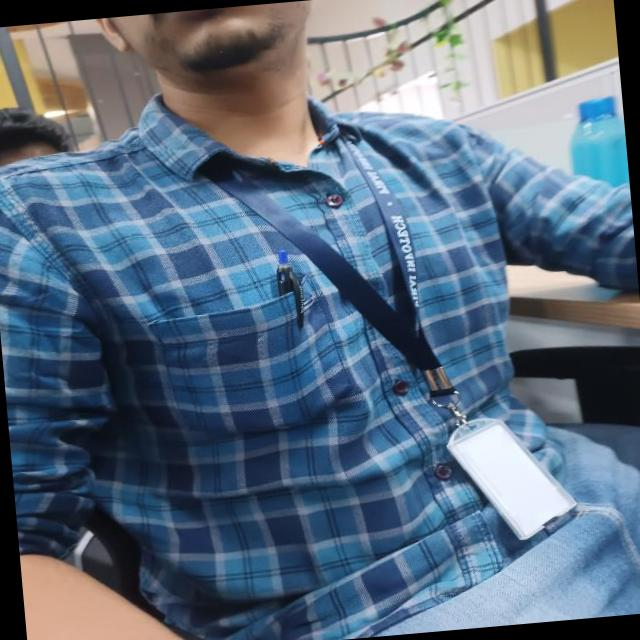id_card: (216, 79, 584, 564)
